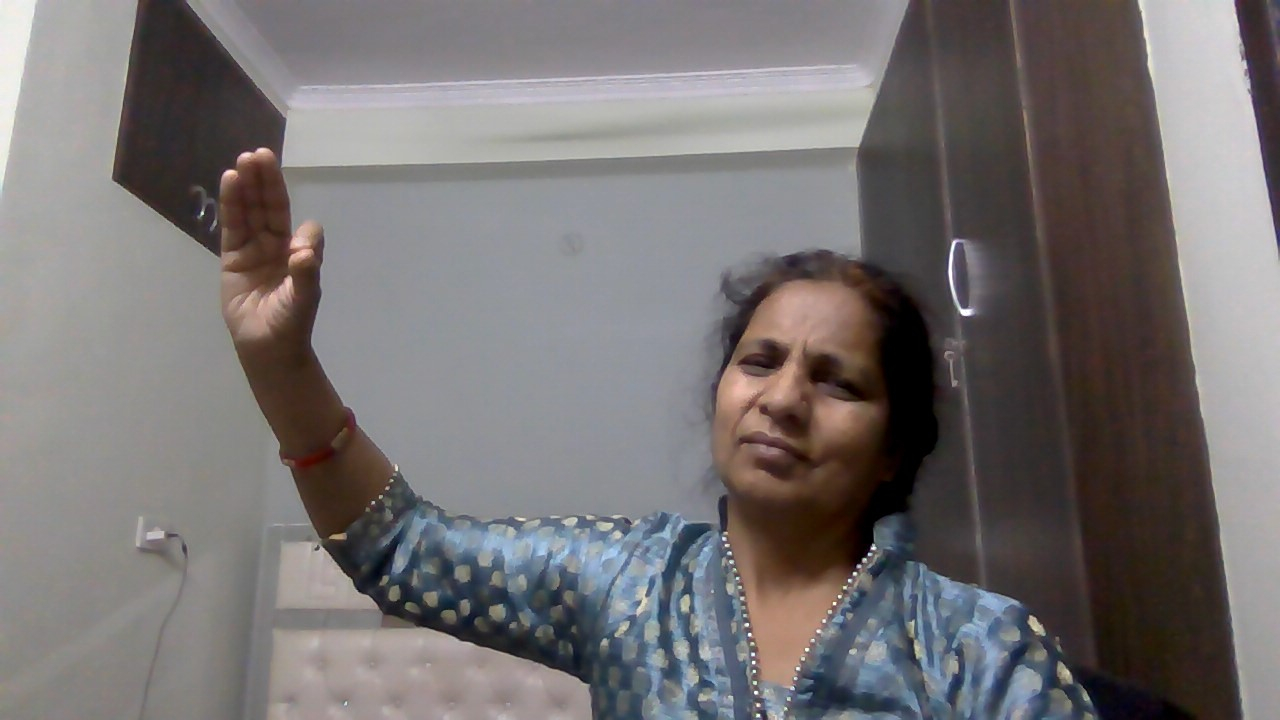Copy: (200, 137, 350, 388)
